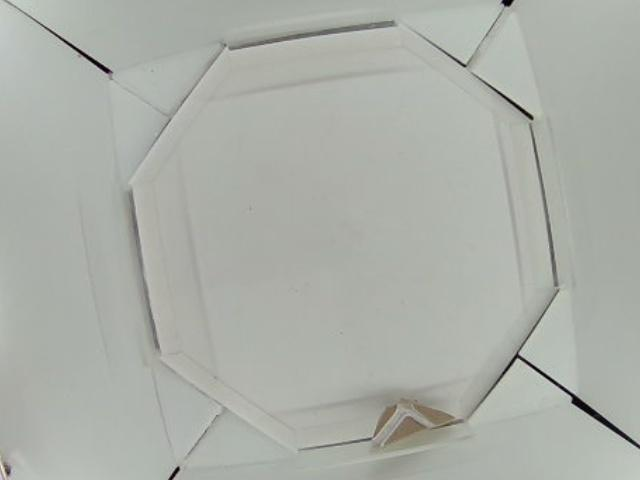China: (373, 400, 467, 449)
